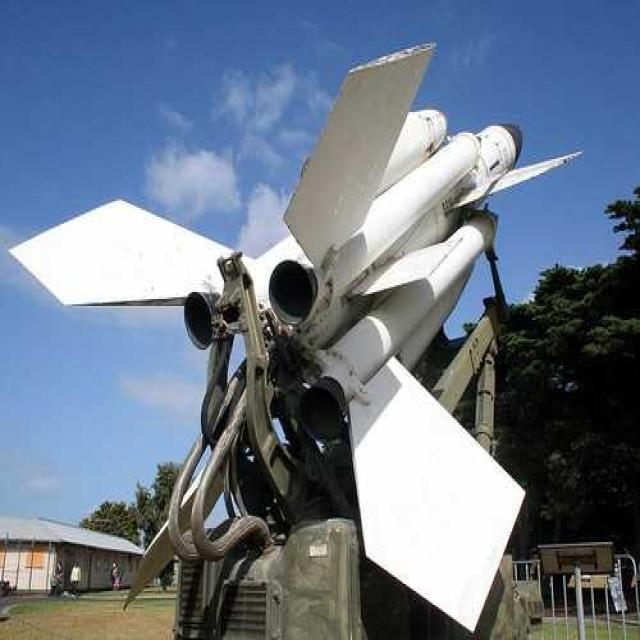missile: (9, 37, 586, 634)
